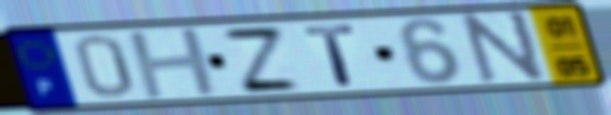0: (70, 32, 139, 102)
6: (395, 15, 466, 89)
H: (123, 24, 223, 102)
N: (460, 9, 550, 86)
T: (300, 23, 361, 89)
Z: (216, 26, 306, 94)
